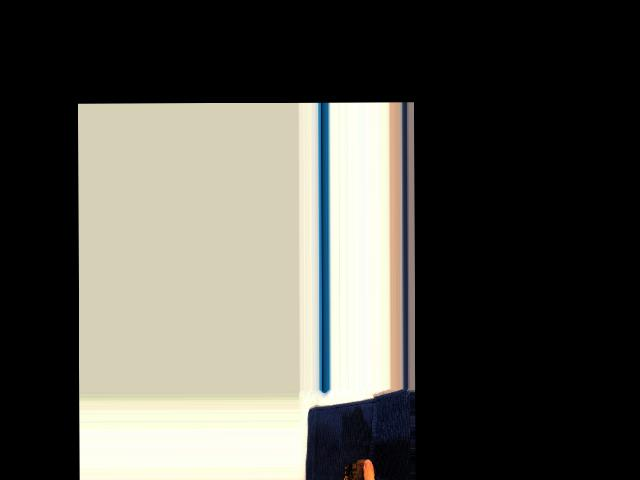beet: (344, 458, 388, 480)
